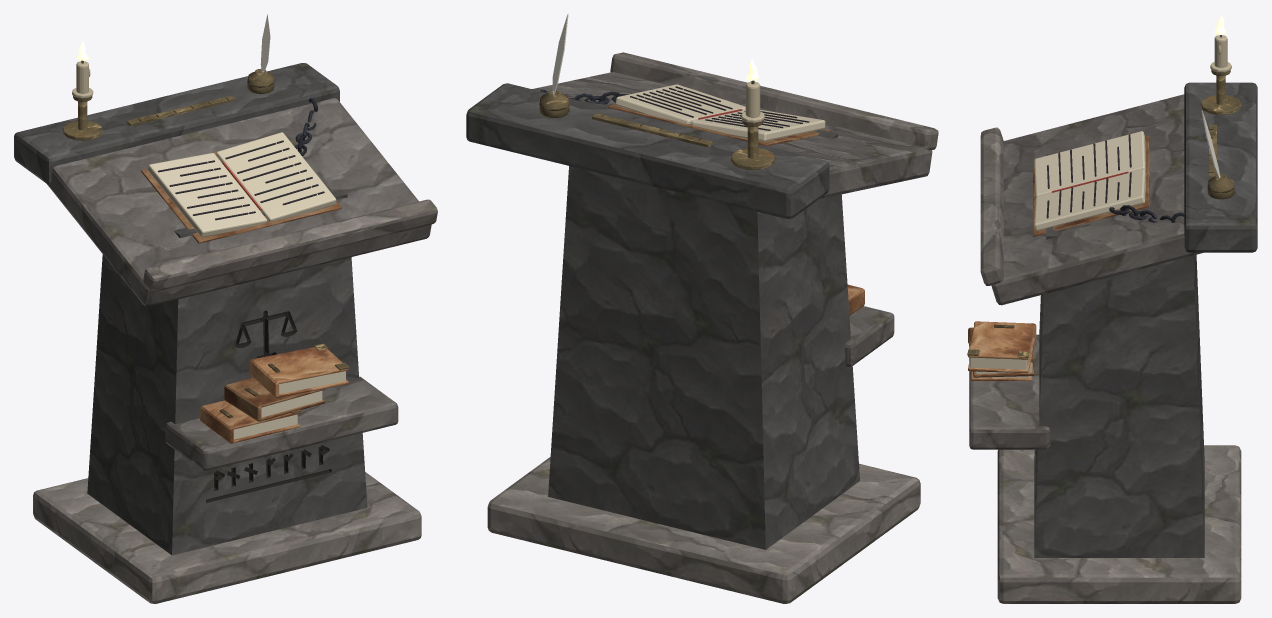
The model's file is bv_ledger_desk.glb.
3 views of the same model, side by side, from view 1: azimuth 30°, elevation 25°; view 2: azimuth 150°, elevation 25°; view 3: azimuth 270°, elevation 25° (orthographic). The views are drawn at different scales.
Parts seen in each view (by area): view 1: model; view 2: model; view 3: model.
Part boxes in pixels (x1,y1,x2,y2): model: (14, 14, 437, 603); model: (466, 14, 938, 603); model: (967, 14, 1257, 603).
Size of the model in its own units: 0.84 by 1.3 by 0.7145.
Materials: 19 (10 with a texture image).
